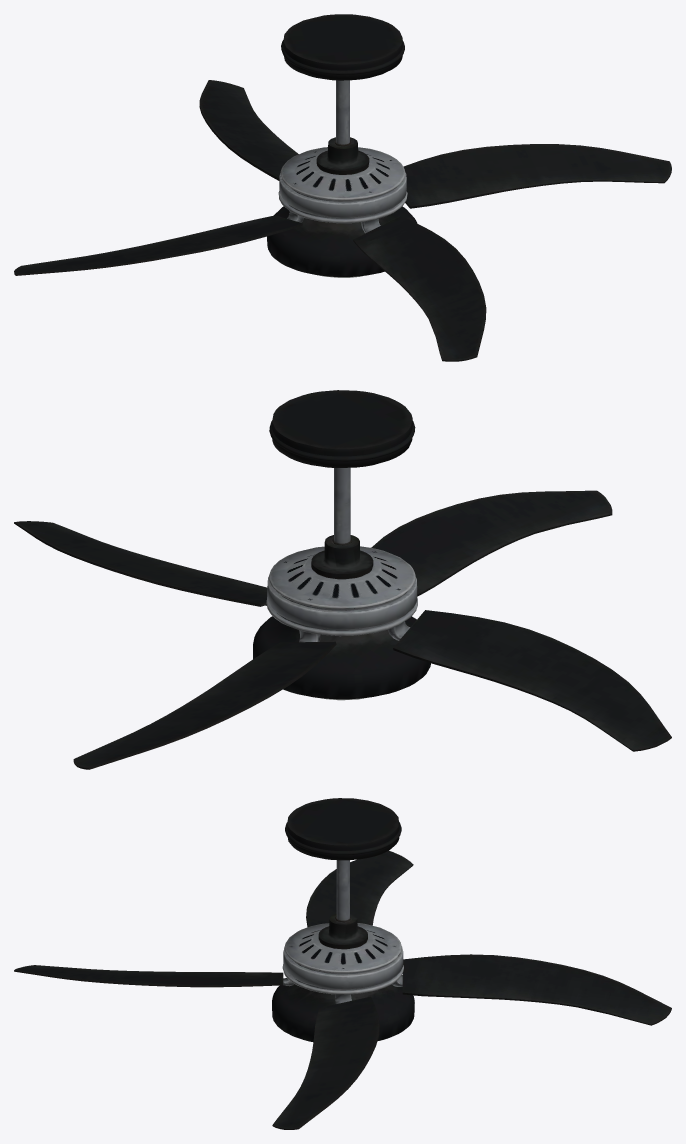
File: ceiling_fan.glb
The picture shows the model from 3 angles, top to bottom: view 1: azimuth 30°, elevation 25°; view 2: azimuth 150°, elevation 25°; view 3: azimuth 270°, elevation 25°; orthographic projection. The views are drawn at different scales.
Parts seen in each view (by area): view 1: ceiling_fan; view 2: ceiling_fan; view 3: ceiling_fan.
Boxes of the visible parts, x1,y1,x2,y2 form: ceiling_fan: (14, 14, 671, 361); ceiling_fan: (14, 390, 671, 769); ceiling_fan: (14, 798, 671, 1129).
Bounding box in the file's own units: 1.46 × 0.5163 × 1.46.
Materials: 1 (1 with a texture image).
